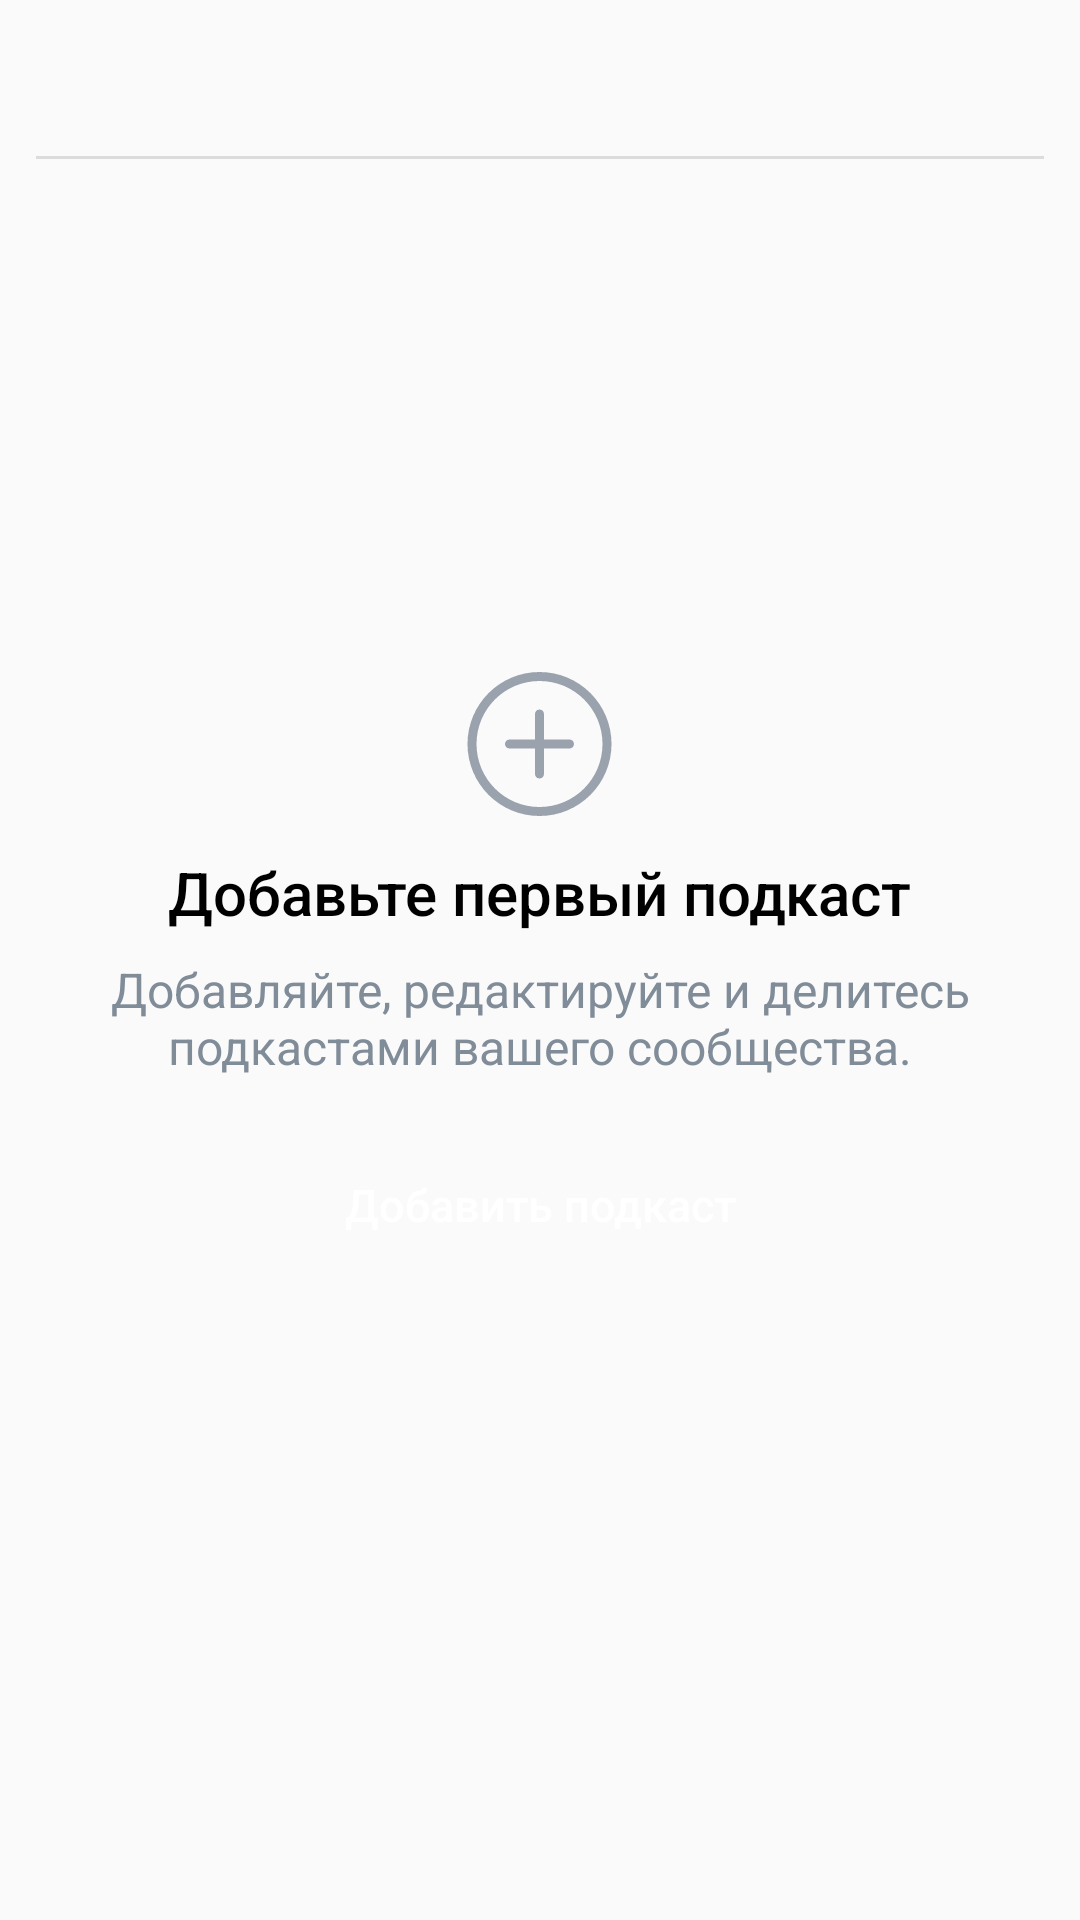

Locate icon controls on the screen. Image size 1080×1920, boxes as region(x1, y1, x2, y2).
add: region(467, 672, 612, 816)
